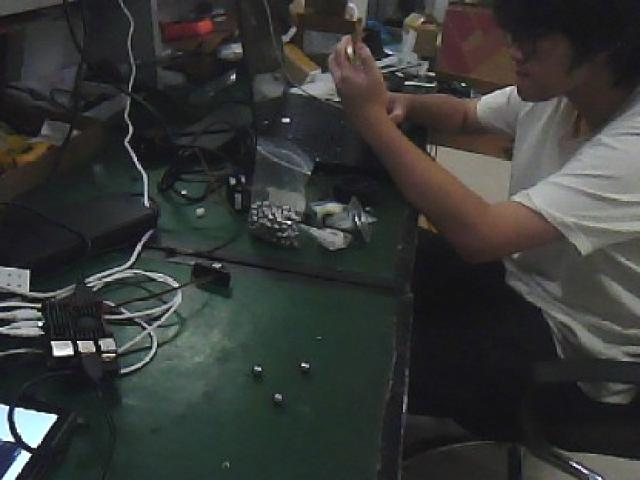steel-ball: (244, 350, 276, 376), (296, 349, 316, 380), (269, 380, 285, 403)
